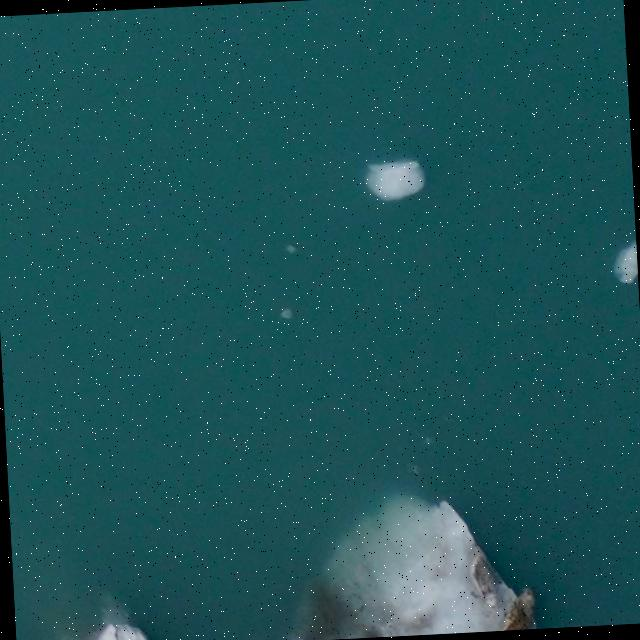seal: (466, 545, 501, 611), (499, 588, 536, 630)
